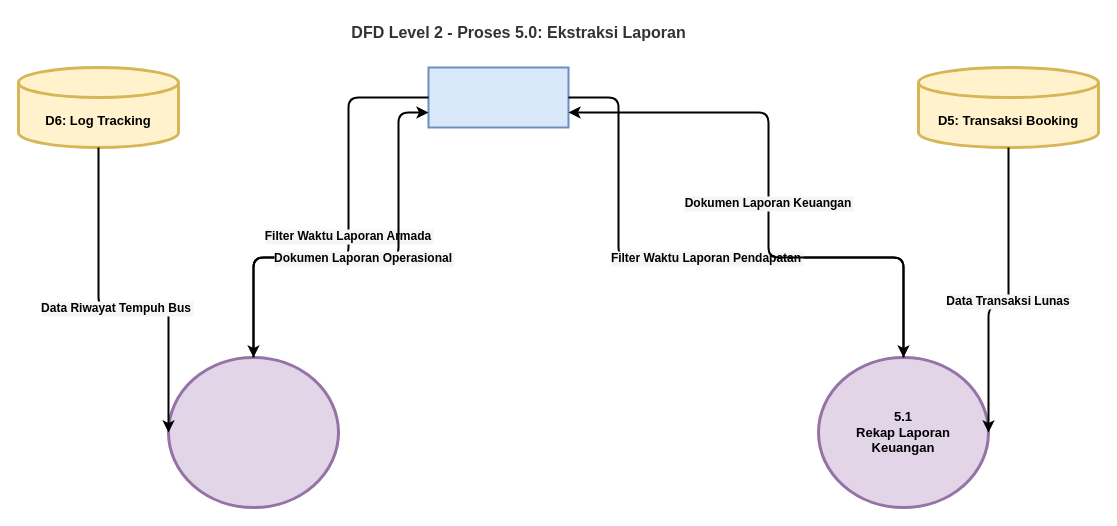
Some shapes in this 1117 by 526 pixel diagram are drawn without their labels. The centre of each missing label's shape, as x and y in pixels:
"5.2 Rekap Laporan Perjalanan" goes at (253,432).
"Admin" goes at (498,97).
